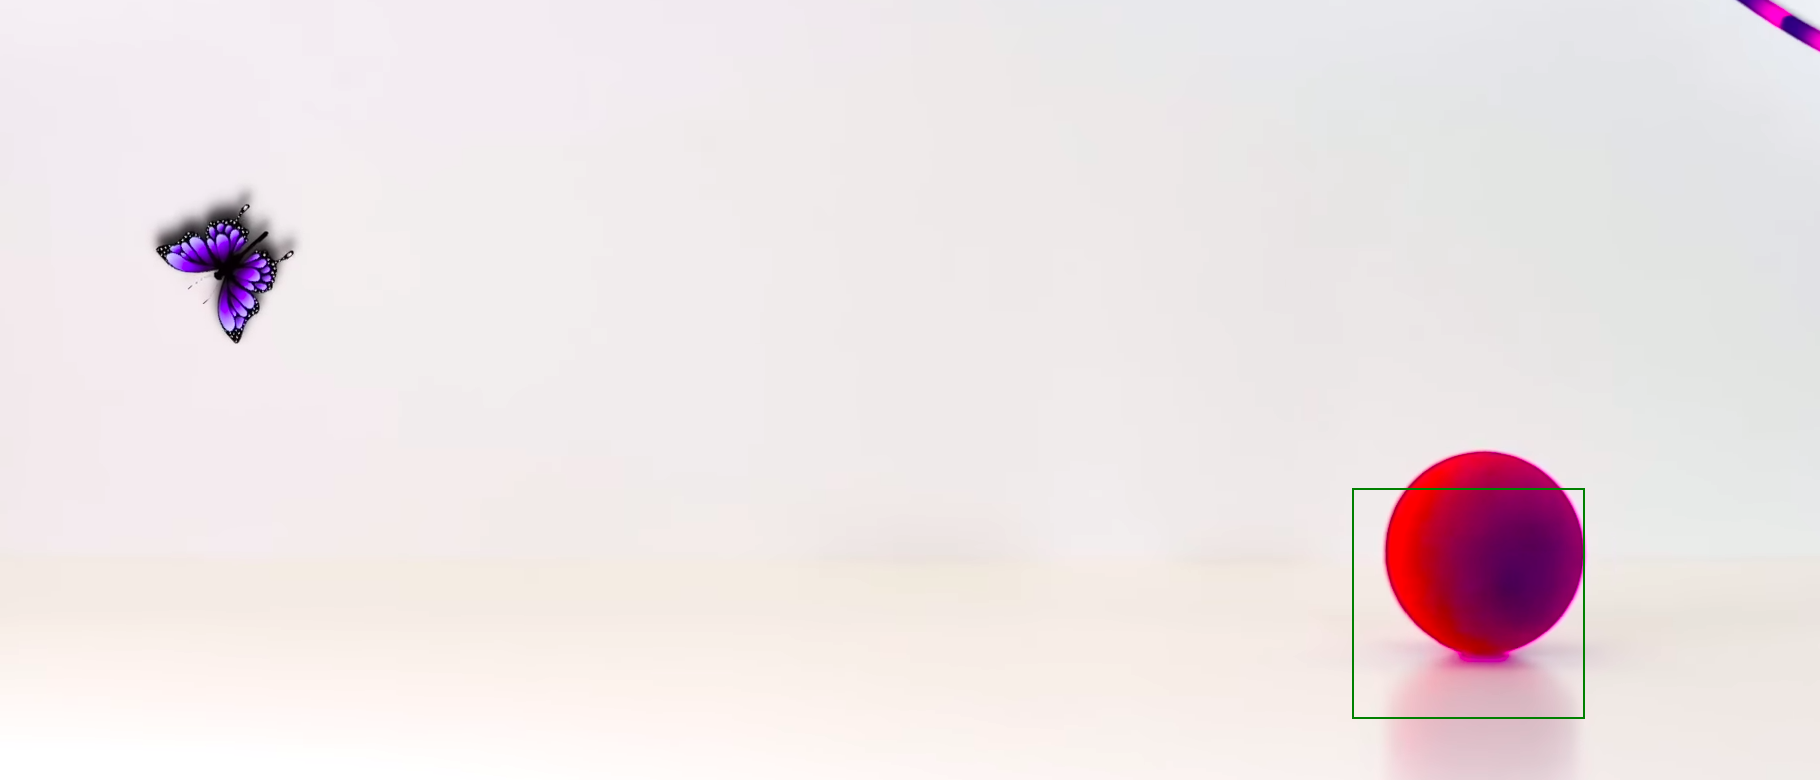Circle: (1384, 452, 1586, 658)
